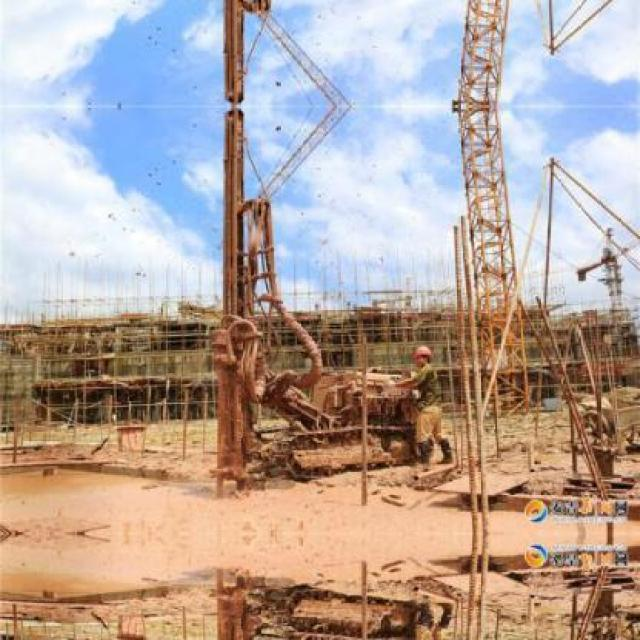helmet: (411, 342, 438, 366)
